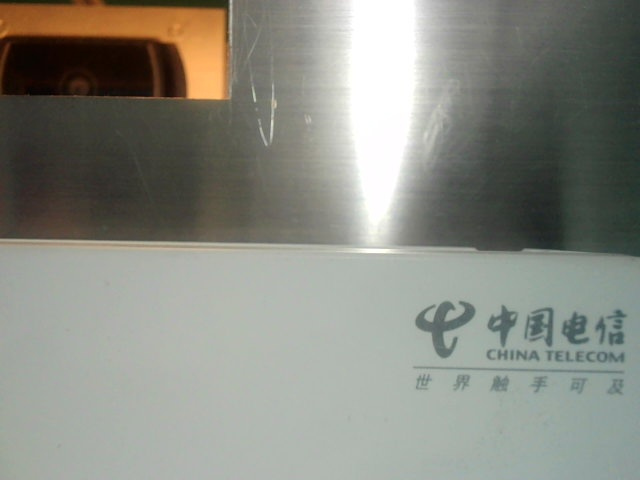AB_ChinaTelecom: (411, 279, 639, 401)
